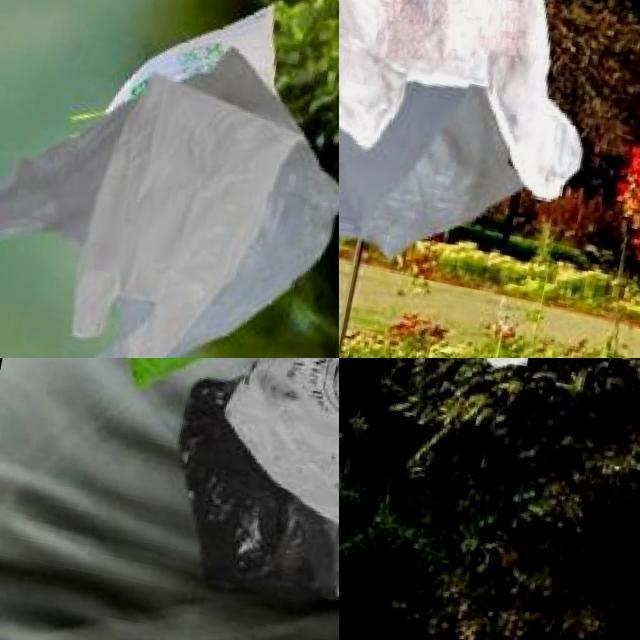waste: (0, 3, 339, 358), (339, 0, 640, 205), (163, 358, 339, 638), (219, 358, 339, 559)
